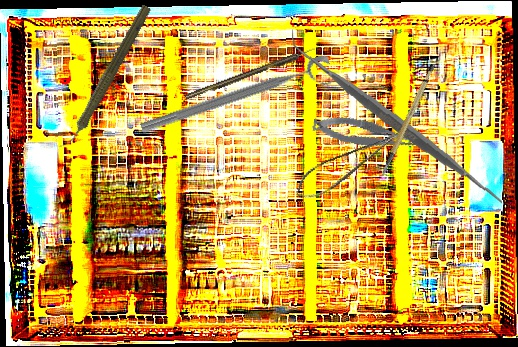Fixation Ring: (138, 53, 337, 149)
Handpiece: (56, 0, 155, 156)
Hook Surgical: (183, 46, 318, 101)
Micro Scissor: (289, 129, 409, 204), (310, 106, 433, 166)
Scalpel Handle: (362, 62, 450, 179)
Spatula Surgical: (291, 17, 504, 229)
